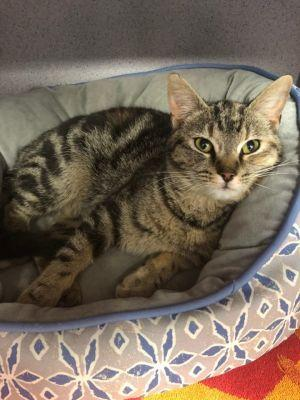bengal: (167, 58, 297, 208)
